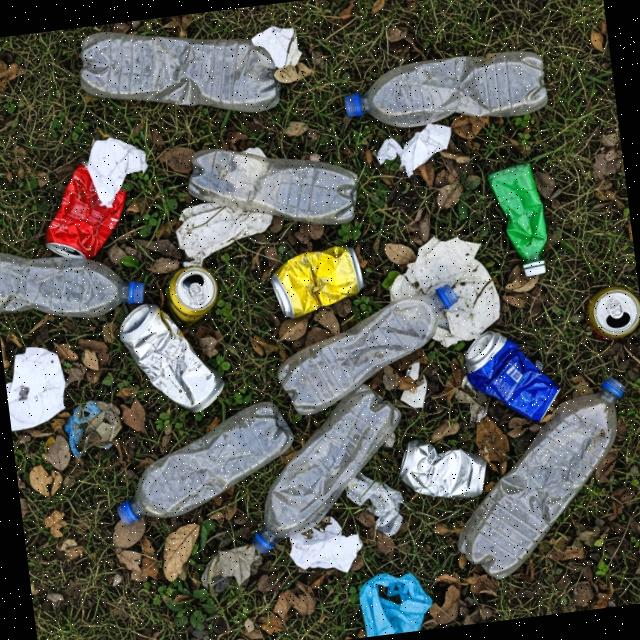aluminum: (115, 290, 231, 422), (457, 316, 568, 434), (31, 155, 133, 266), (265, 236, 371, 324), (391, 430, 491, 506), (160, 260, 222, 326), (580, 280, 640, 342)
paper: (387, 228, 508, 352), (1, 341, 73, 433), (75, 131, 154, 210), (372, 118, 460, 180), (288, 514, 364, 580), (254, 19, 306, 74)
plastic: (439, 373, 640, 586), (232, 377, 420, 557), (96, 397, 308, 536), (266, 278, 472, 418), (72, 7, 283, 134), (180, 126, 366, 244), (337, 42, 552, 135), (0, 229, 153, 328), (488, 162, 552, 284)
